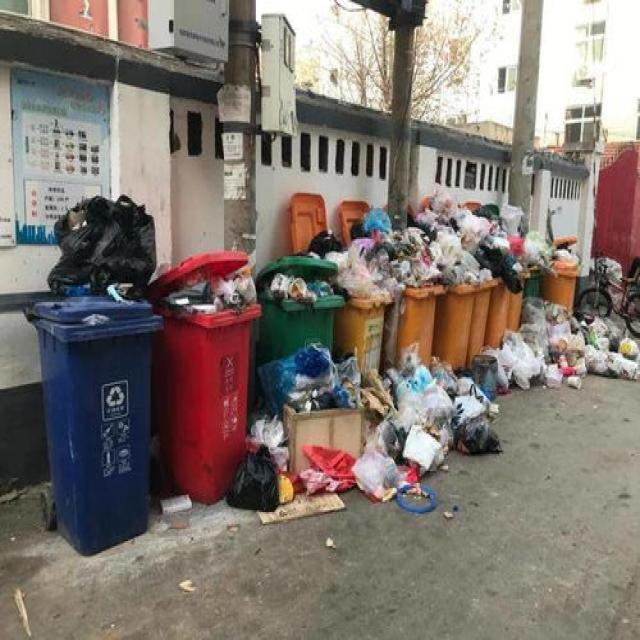garbage: (224, 292, 639, 524)
overflow: (26, 193, 160, 553), (150, 249, 261, 504), (256, 252, 343, 364), (379, 225, 443, 367), (334, 242, 392, 374), (433, 222, 476, 369), (468, 263, 496, 367), (549, 234, 577, 312)
